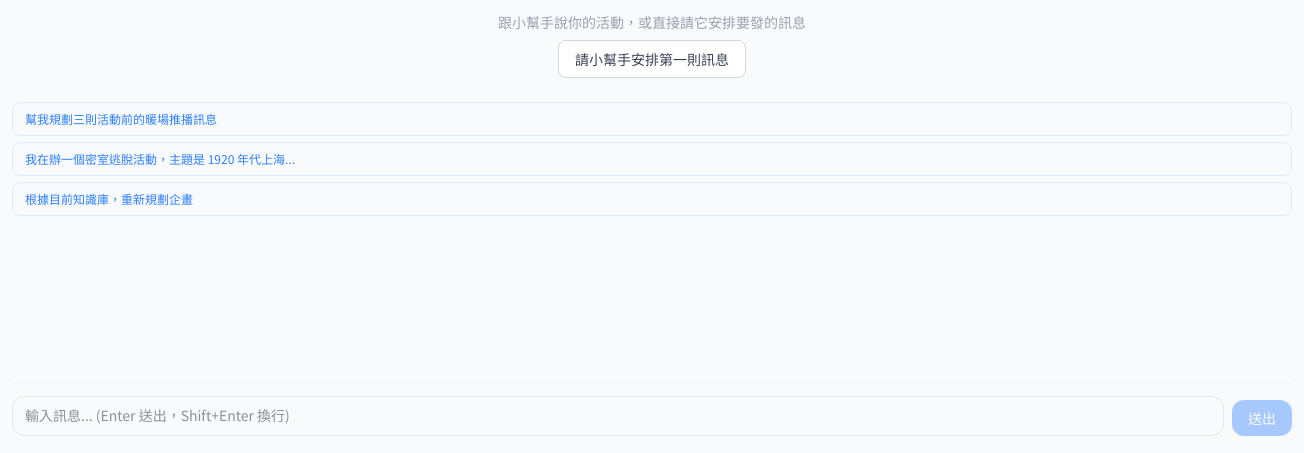
it: AgentChatPanel — rate limited › shows countdown when status = rate_limited
Type "測試" into the text box with placeholder "輸入訊息... (Enter 送出，Shift+Enter 換行)" at (618, 416), box left=12, top=396, right=1224, bottom=436
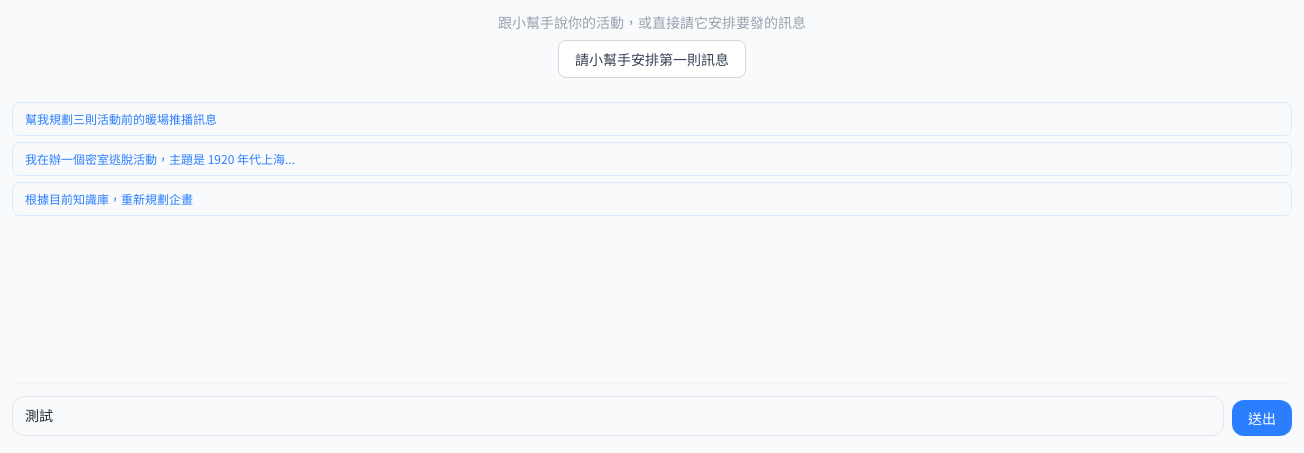
Click the button "送出" at (1262, 418), box left=1232, top=400, right=1292, bottom=436
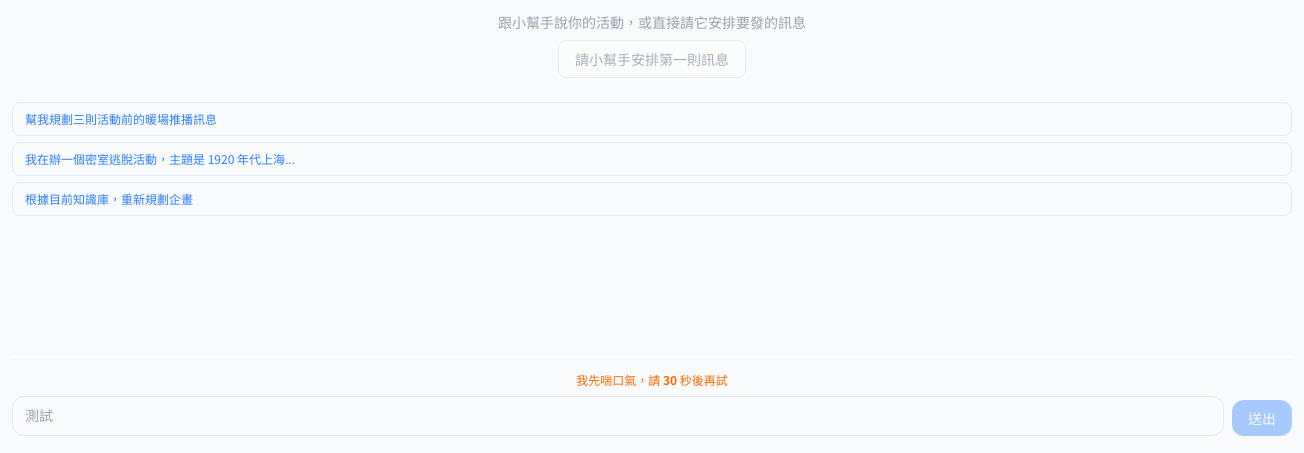
Expected: the text "我先喘口氣，請 30 秒後再試" is shown, left=576, top=371, right=728, bottom=388
Expected: the text "30" is shown, left=663, top=371, right=677, bottom=388
